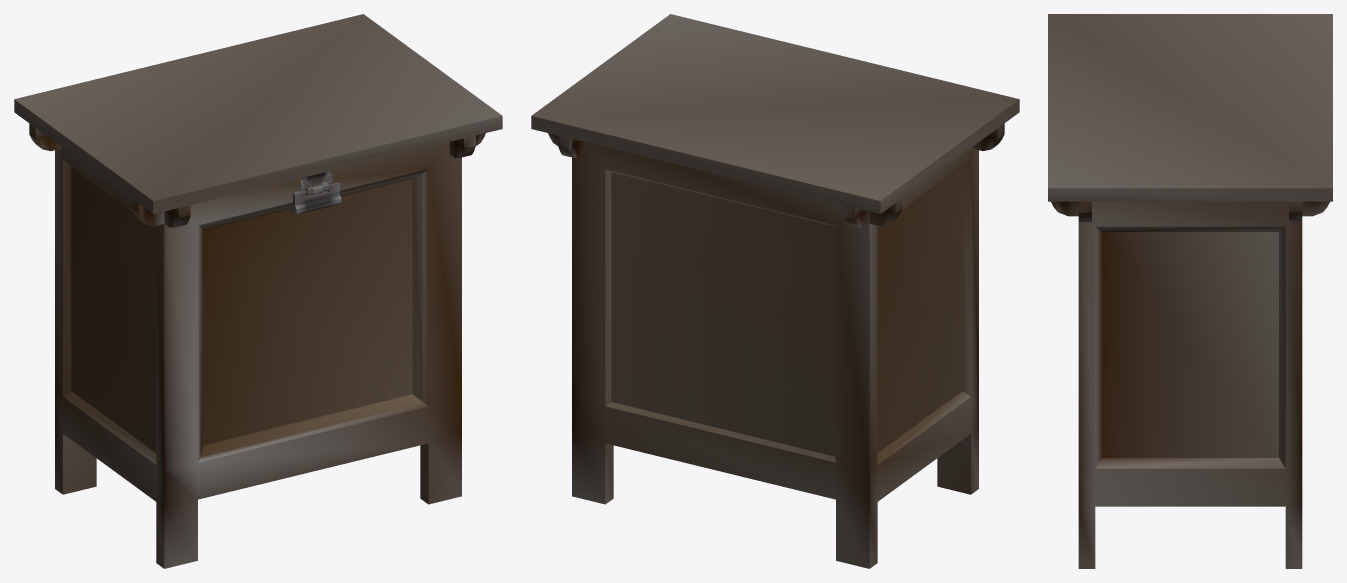
File: rice_chest_0f57b1cc.glb
The picture shows the model from 3 angles, left to right: view 1: azimuth 30°, elevation 25°; view 2: azimuth 150°, elevation 25°; view 3: azimuth 270°, elevation 25°; orthographic projection. The views are drawn at different scales.
Visible parts, largest first — view 1: SM_Rice_Chest_M_Rice_Chest_0; view 2: SM_Rice_Chest_M_Rice_Chest_0; view 3: SM_Rice_Chest_M_Rice_Chest_0.
Boxes of the visible parts, x1,y1,x2,y2 form: SM_Rice_Chest_M_Rice_Chest_0: (14,14,502,568); SM_Rice_Chest_M_Rice_Chest_0: (531,14,1019,568); SM_Rice_Chest_M_Rice_Chest_0: (1048,14,1332,568).
Size of the model in its own units: 0.8112 by 0.8544 by 0.56.
